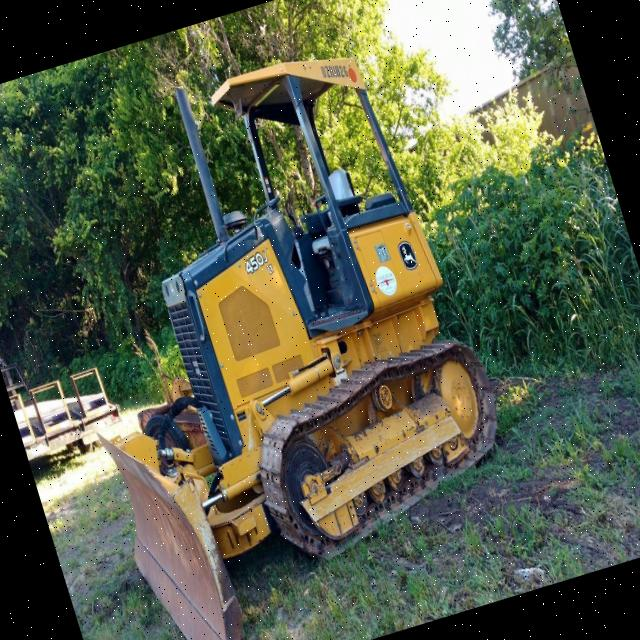Bulldozer: (0, 4, 556, 640)
